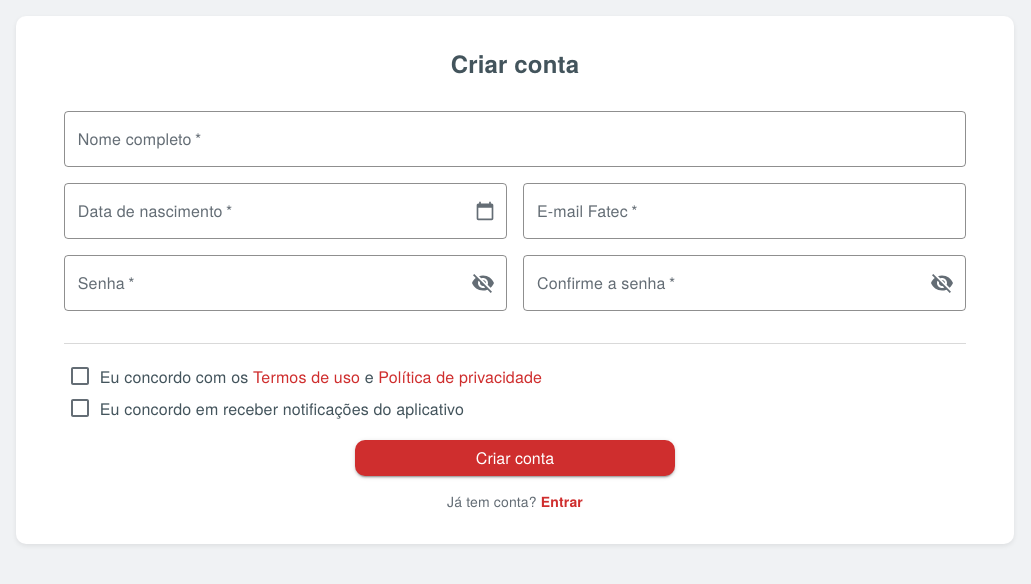
Test: Signup › should reject a confirmation that differs from the password, without sending
This screenshot has width=1031, height=584.
In the field labelled "Nome completo *": (515, 139) [64,111,966,167], type "Maria Silva"
In the field labelled "E-mail Fatec *": (745, 211) [523,183,966,239], type "maria.silva@aluno.cps.sp.gov.br"
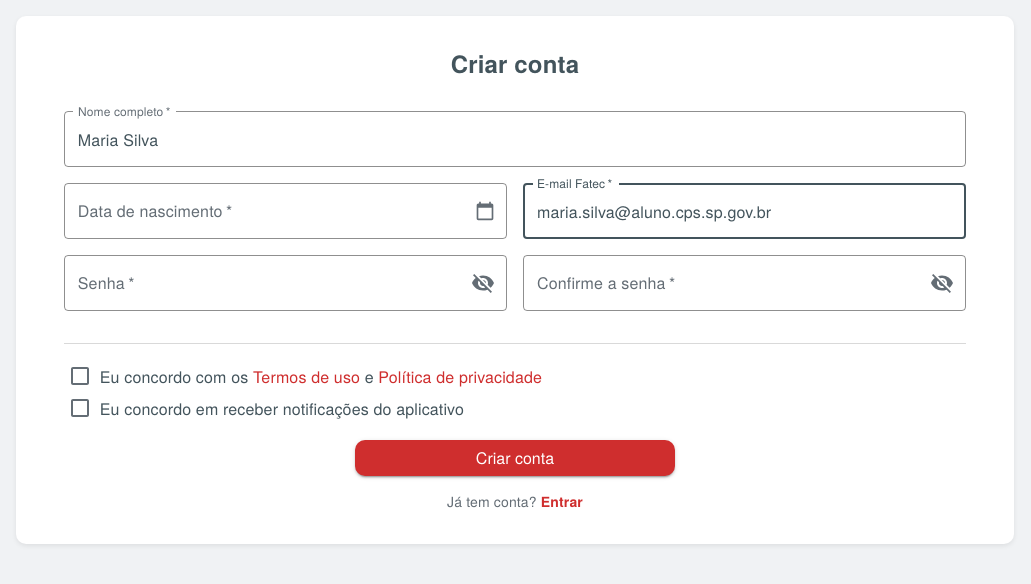
In the field labelled "Data de nascimento *": (261, 211) [64,183,459,239], type "22051999"
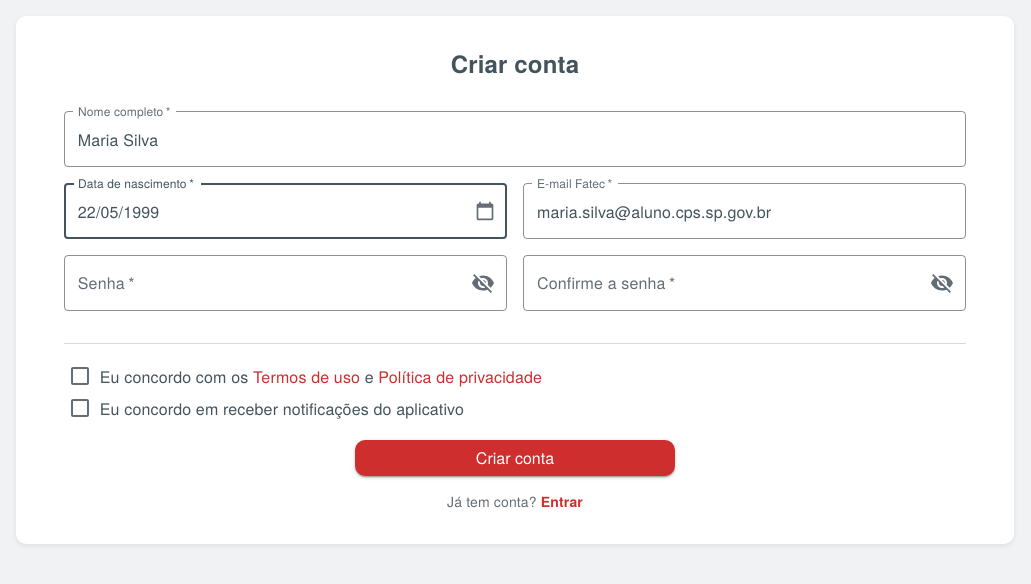
In the password field labelled "Senha *": (259, 283) [64,255,455,311], type "segredo123"
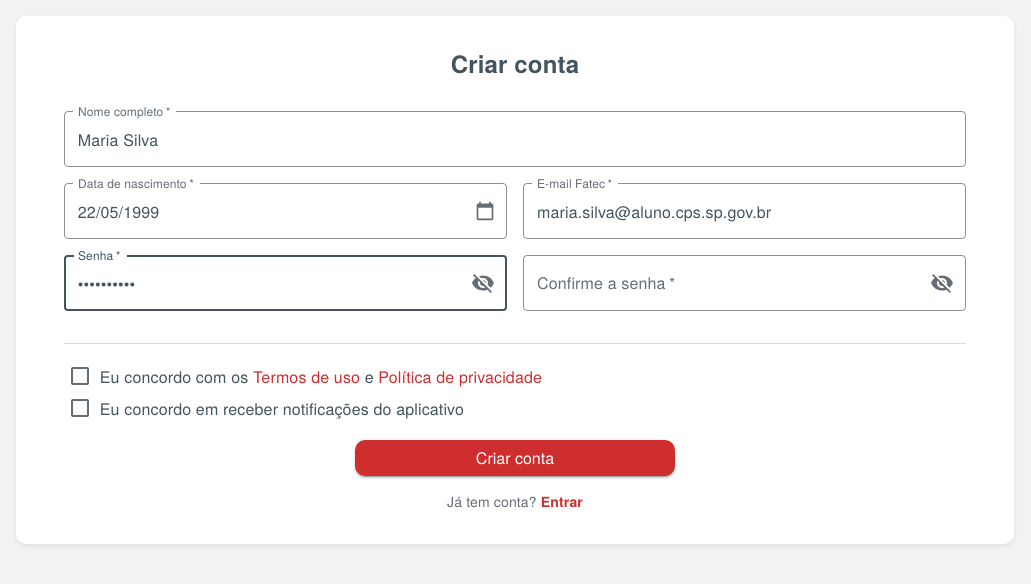
In the password field labelled "Confirme a senha *": (719, 283) [523,255,914,311], type "segredo123"
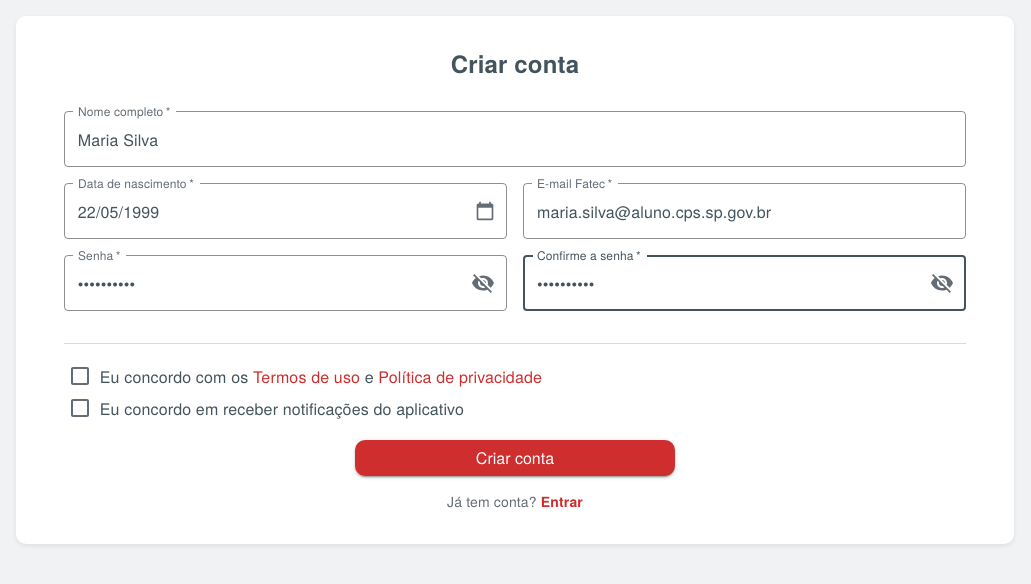
Click the checkbox named "Termos de uso": (174, 376) [100,365,253,388]
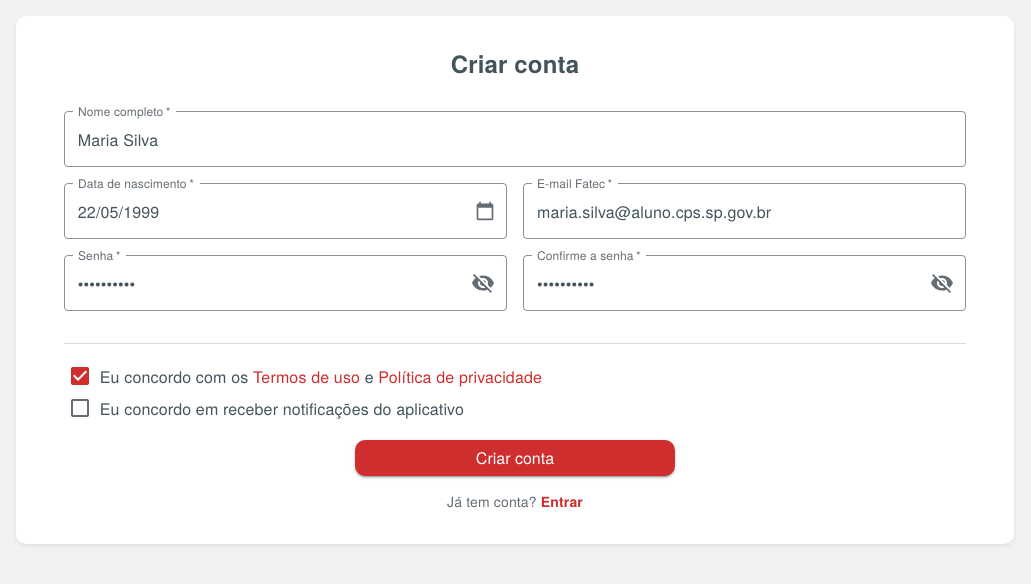
In the password field labelled "Confirme a senha *": (719, 283) [523,255,914,311], type "4"
Click the button "Criar conta": (515, 458) [355,440,675,476]
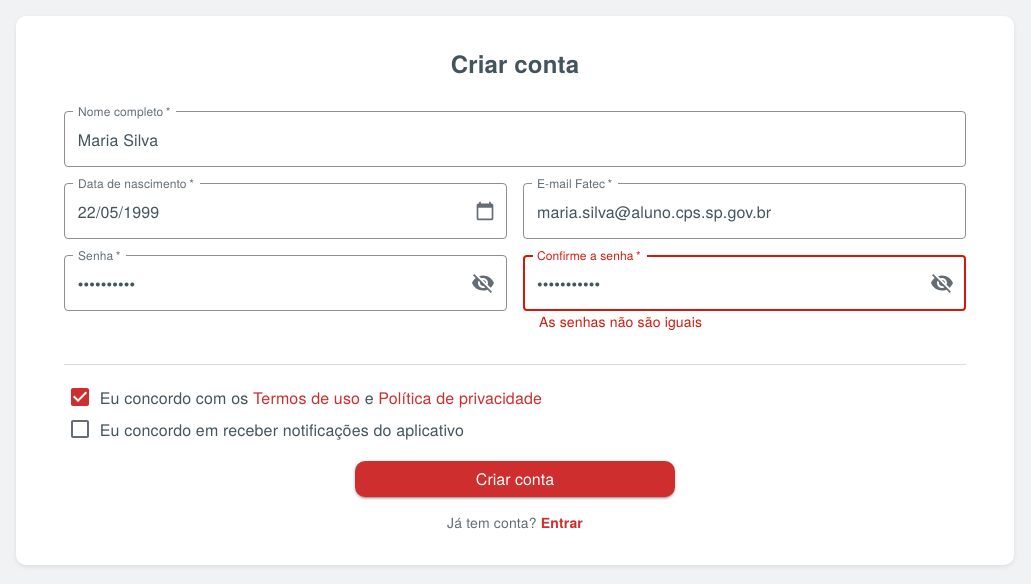
Now the text "As senhas não são iguais" is shown, box [539,311,702,331]
